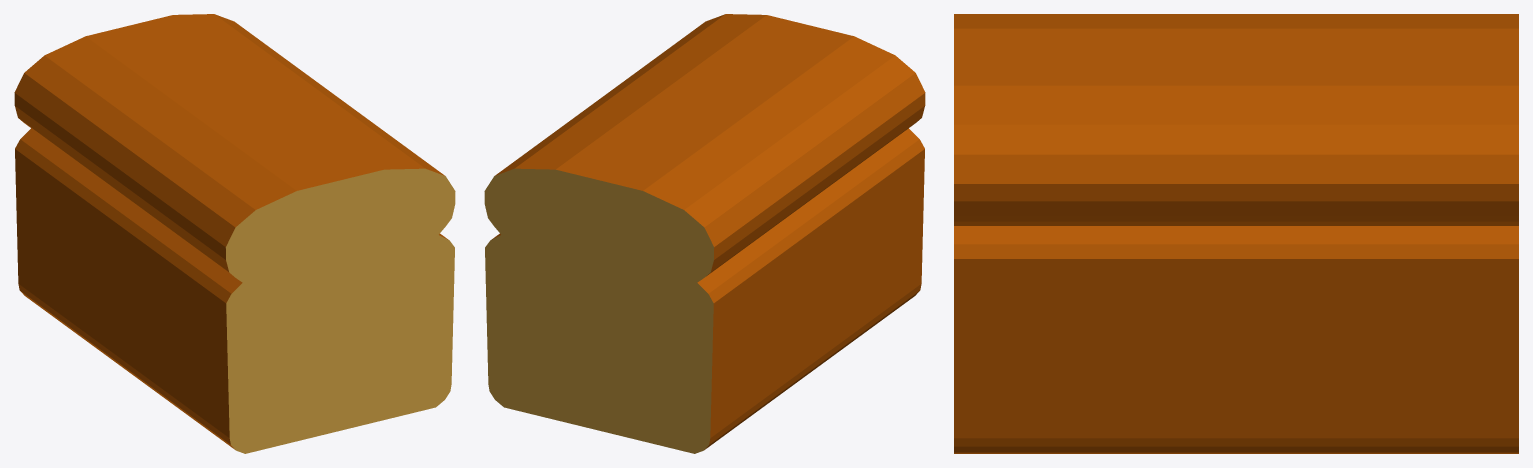
Rendered from PaoDeForma.fbx.
3 renders of one model, left to right at view 1: azimuth 30°, elevation 25°; view 2: azimuth 150°, elevation 25°; view 3: azimuth 270°, elevation 25°, orthographic. The views are drawn at different scales.
Visible parts, largest first — view 1: PaoDeForma; view 2: PaoDeForma; view 3: PaoDeForma.
Part boxes in pixels (x1,y1,x2,y2): PaoDeForma: (14,14,455,453); PaoDeForma: (484,14,925,453); PaoDeForma: (954,14,1518,453).
Bounding box in the file's own units: 21.54 × 22.44 × 34.32.
1 material, 1 textured.
